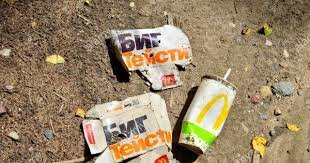cardboard: (68, 95, 193, 163)
paper: (98, 21, 202, 95)
plastic: (175, 67, 246, 155)
